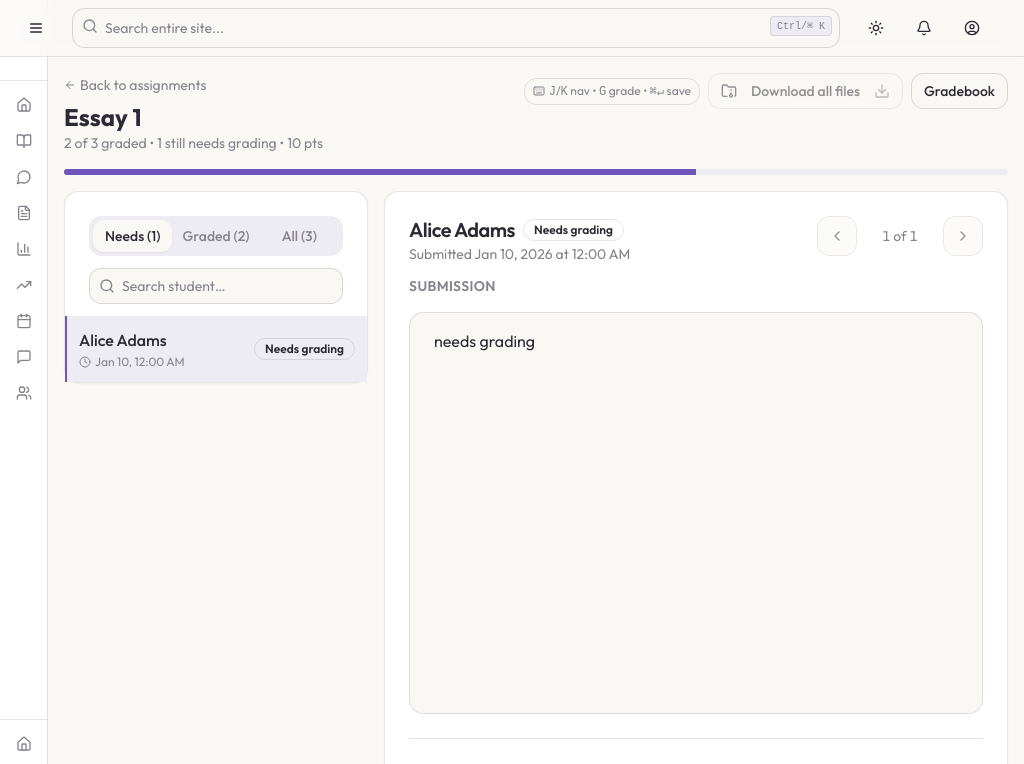
Scenario: CanvasGradingInterface › 10-point assignment (actual schema: assignments.points = 10, no points_possible) › uses 10 as the denominator for the list, input max and quick-fill, with grade 0 and 7 (score NULL)
This screenshot has width=1024, height=764.
Expected: the heading "Essay 1" is shown, 64,102 -> 142,132
Press the mouse on the tab "Graded (2)" at (216, 236), box 176,220 -> 256,252
(page scrolled)
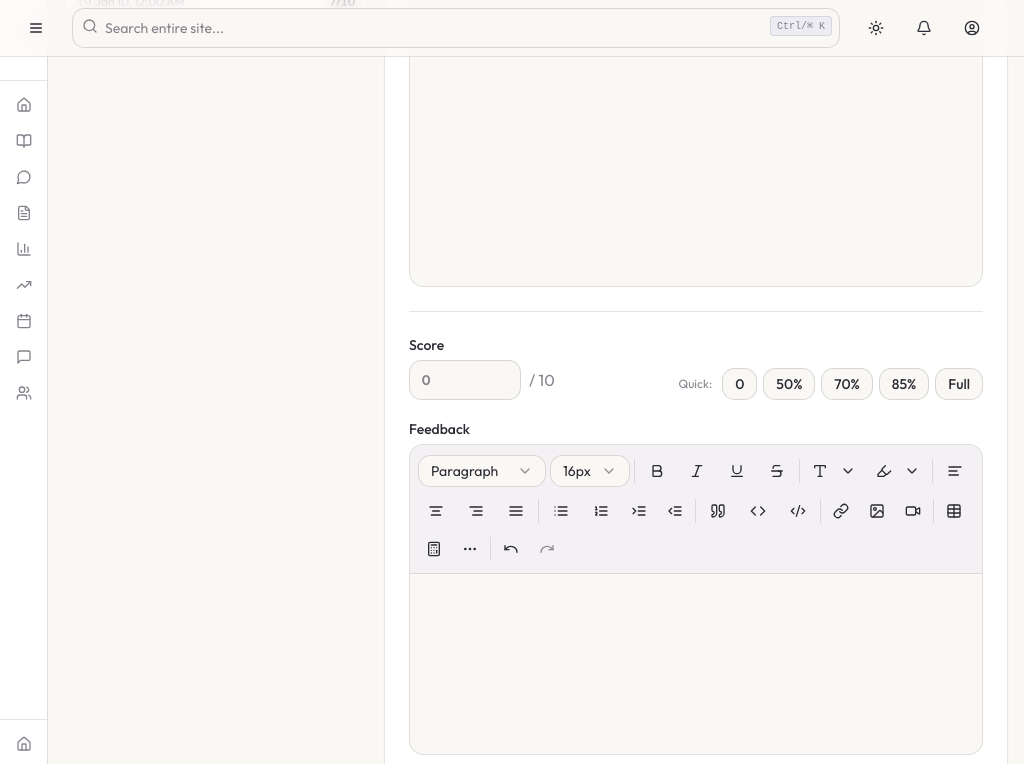
// Quick-fill "Full" fills the real maximum, not 100.
Click the button "Full" at (959, 384), box 935,368 -> 983,400
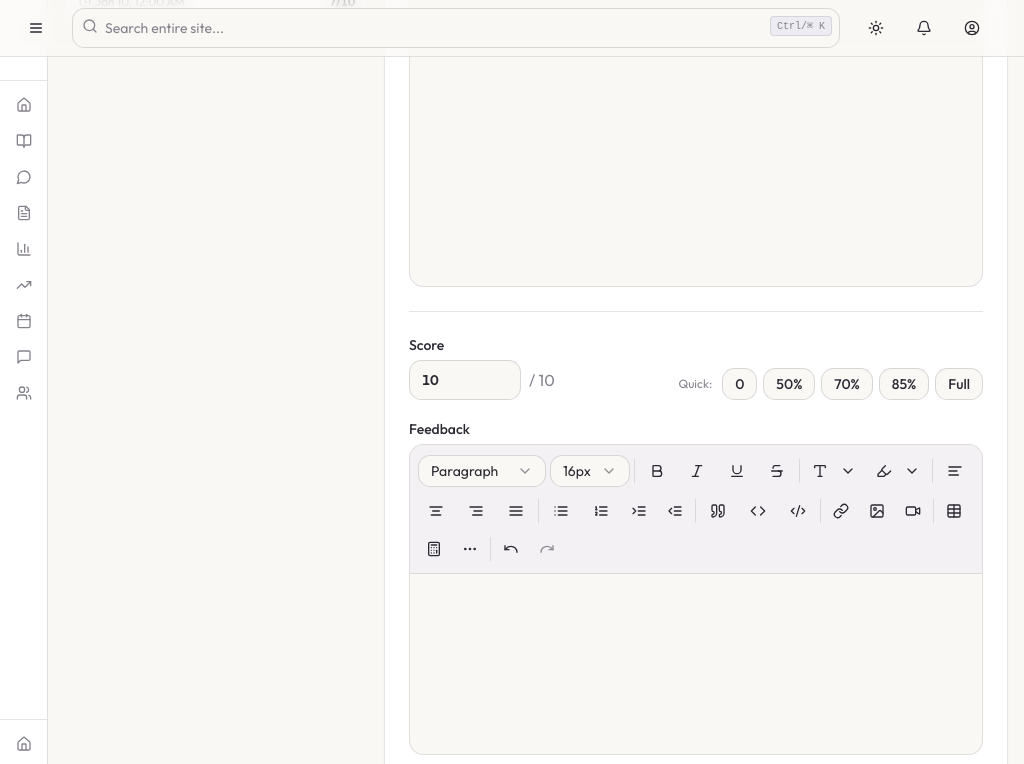
Expected: the number field labelled "Score" holds "10", 409,360 -> 521,400
